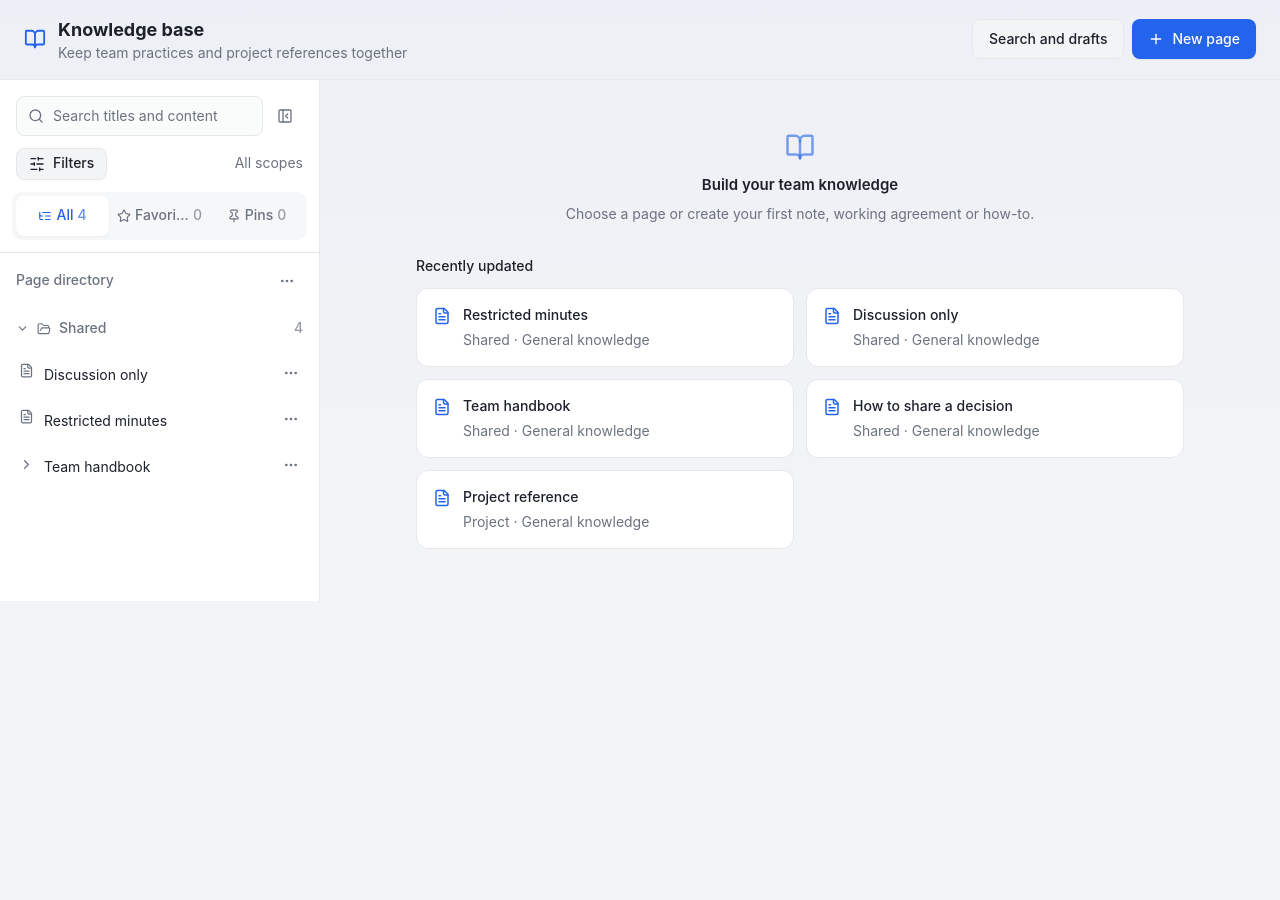
Test: knowledge permissions and meeting notes › clears selected body, revision preview and comment controls after a live job title change
Click the button "Restricted minutes" at point(158, 421), box [44, 399, 271, 443]
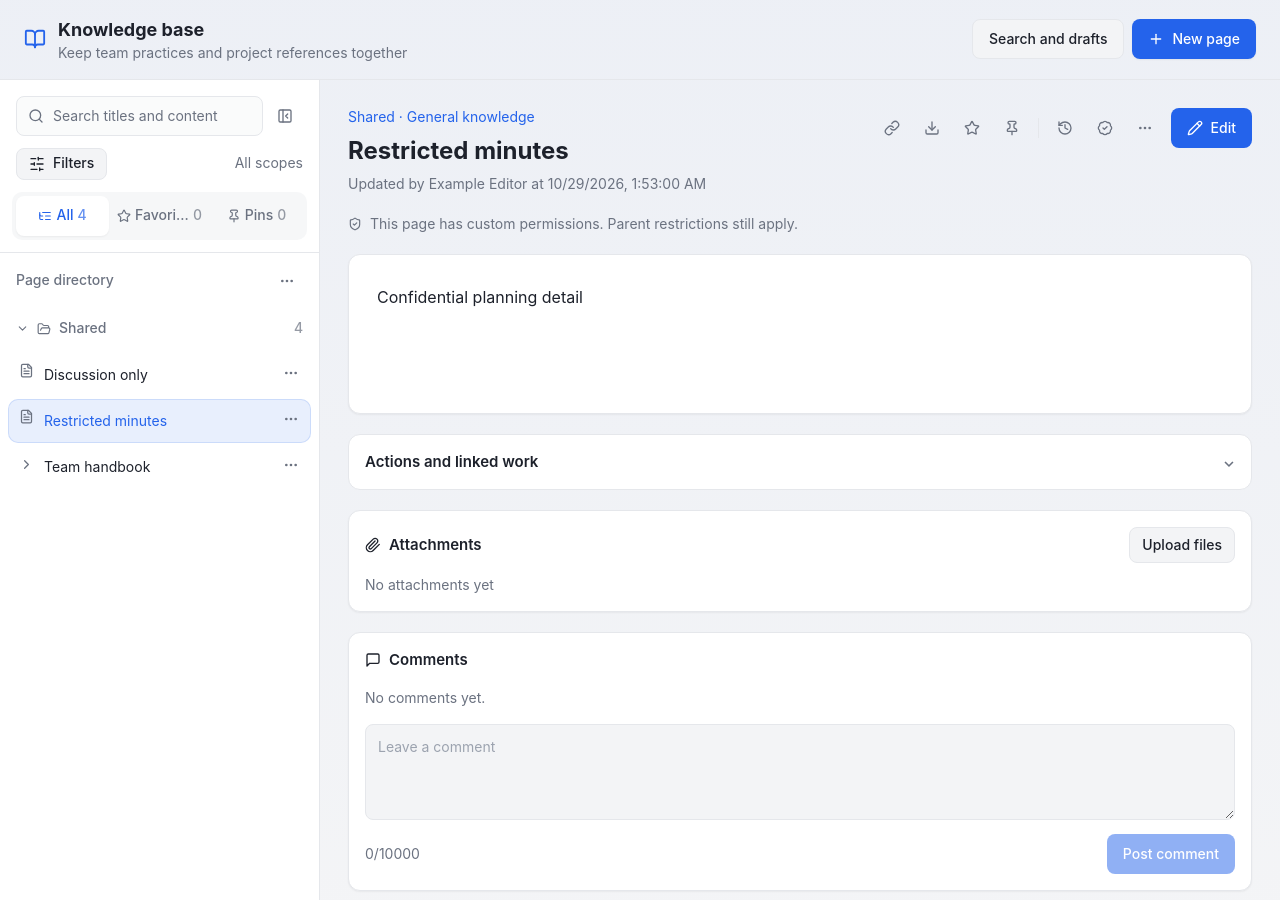
Expected: the text "Confidential planning detail" is shown, [377, 287, 583, 307]
Note: History opens in a side sheet over the page, so the comment is typed first.
Type "Unsent private note" into the text box with placeholder "Leave a comment" at point(800, 772), box [365, 724, 1235, 820]
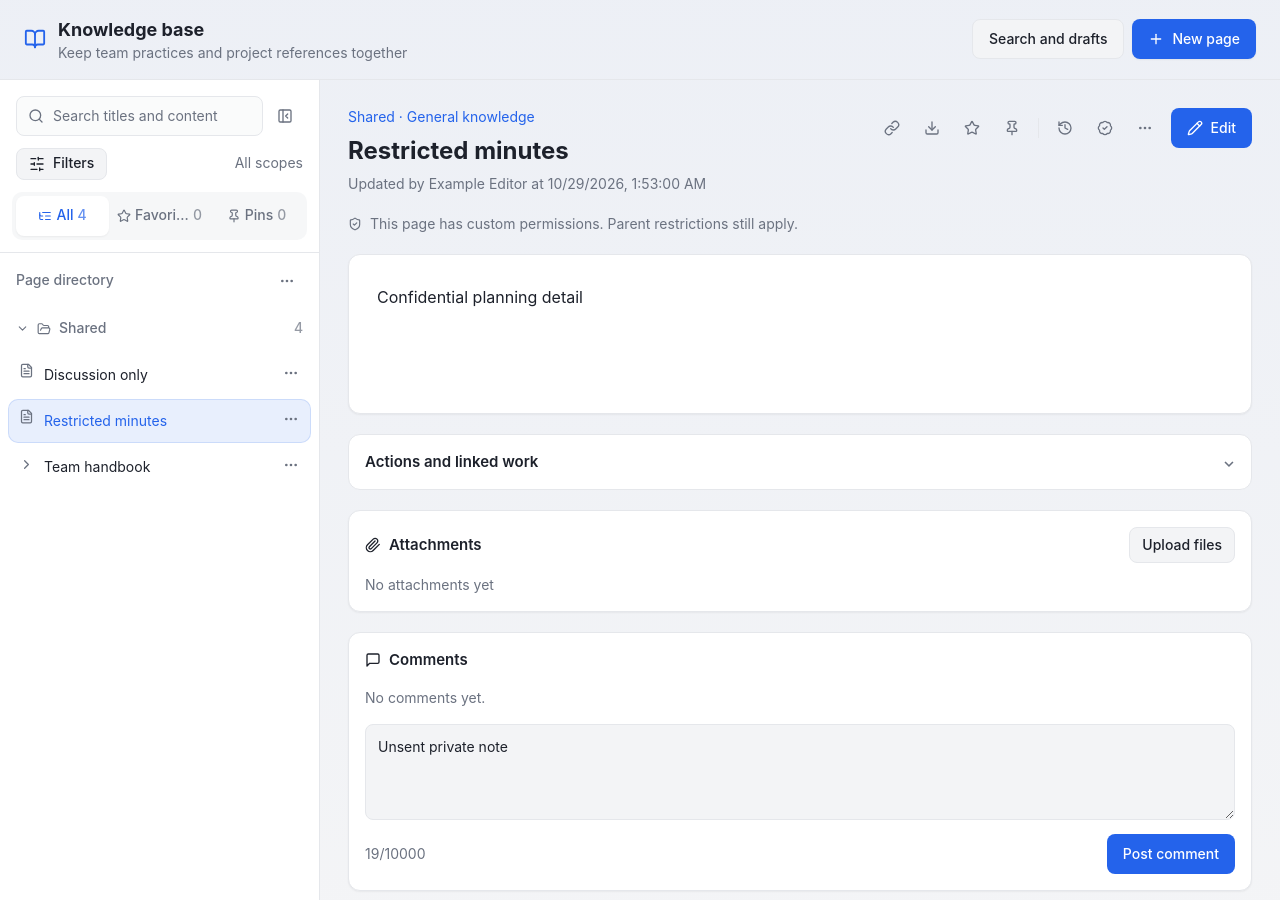
Click the button named "Revision history" at point(1065, 128), box [1047, 110, 1083, 146]
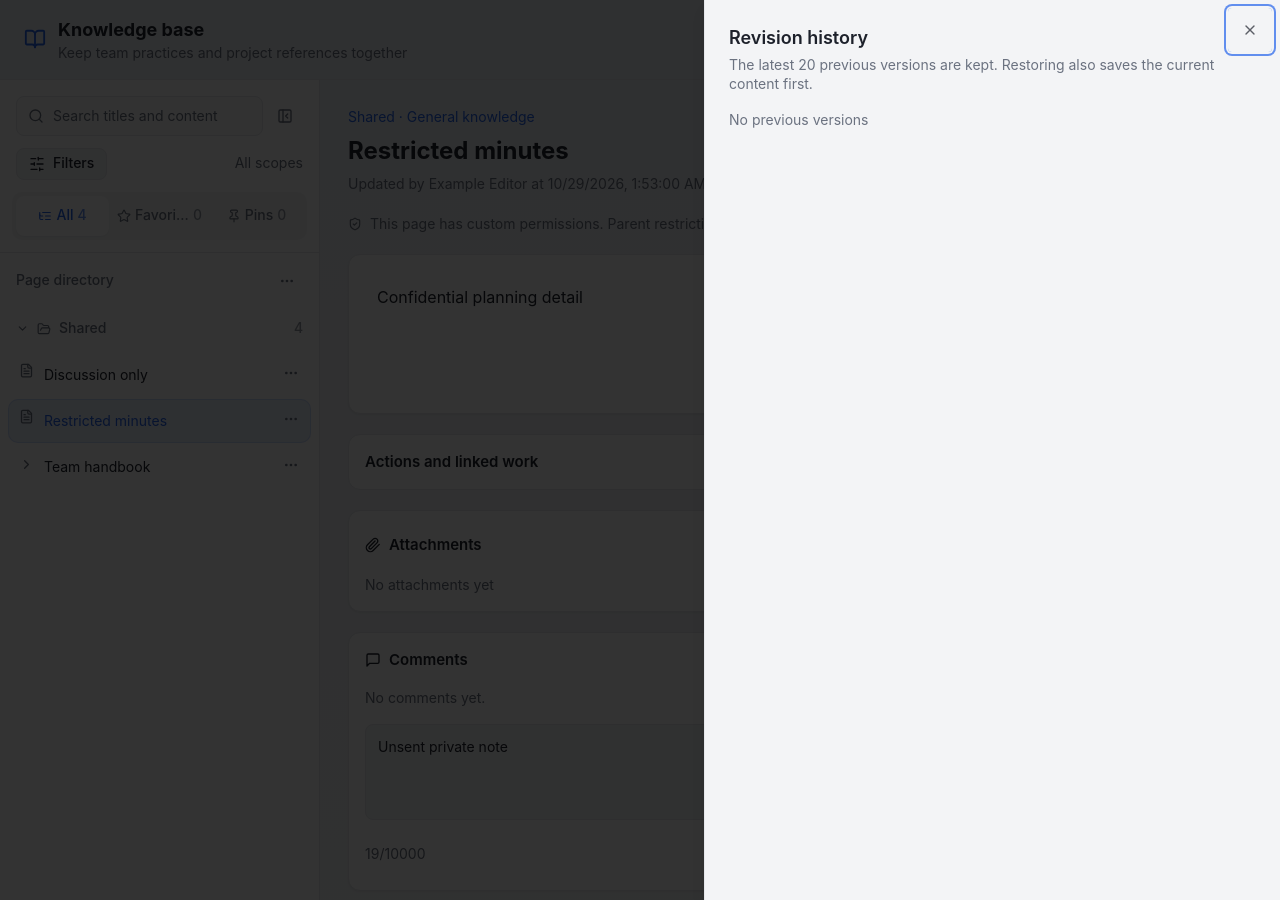
Expected: the dialog "Revision history" is shown, [704, 0, 1279, 899]
